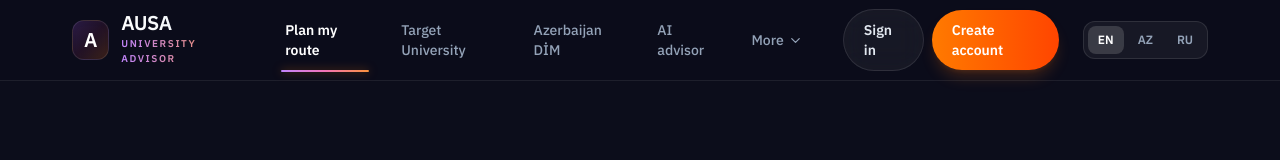
Scenario: SiteHeader Component › renders language switcher and switches language correctly
Switch to Azerbaijani
Click the button "AZ" at [1145, 40], box [1128, 26, 1163, 54]
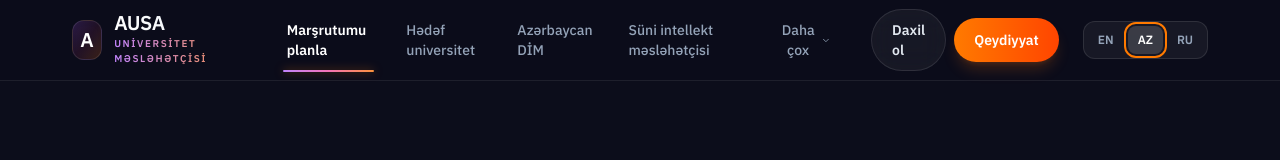
Expected: the link "Marşrutumu planla" is shown, [283, 21, 374, 72]
Switch to Russian
Click the button "RU" at [1185, 40], box [1167, 26, 1203, 54]
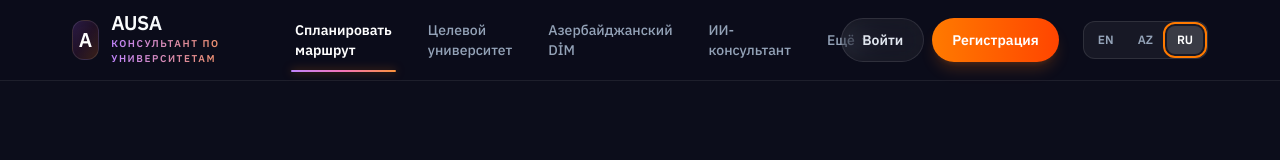
Expected: the link "Спланировать маршрут" is shown, [291, 21, 396, 72]
